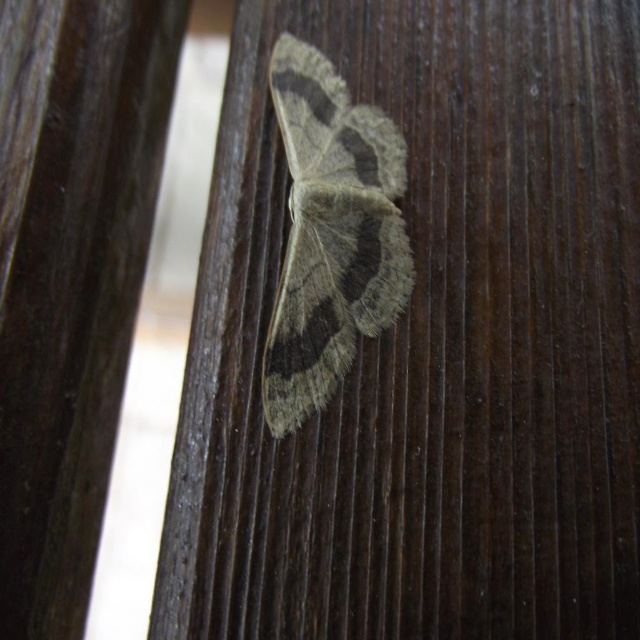Moths and butterflies: (260, 29, 419, 441)
